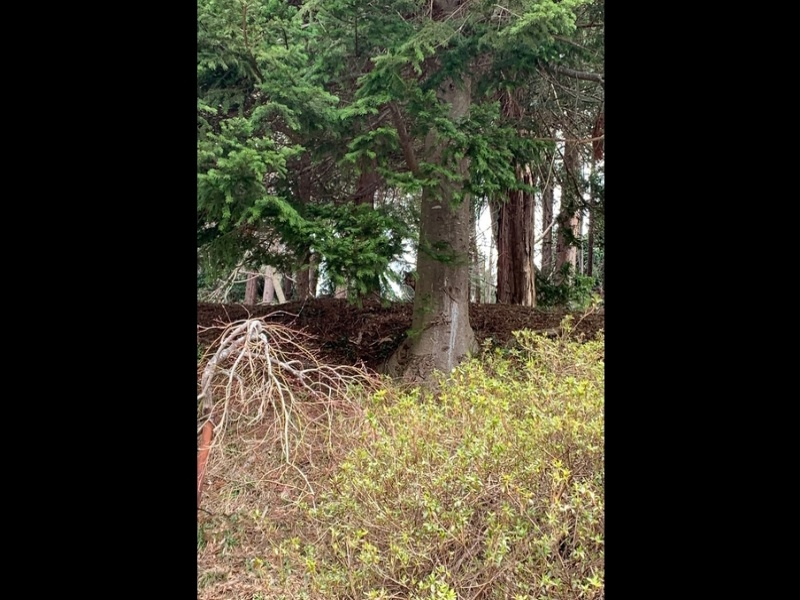cat: (399, 266, 417, 296)
